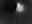person: (16, 3, 25, 15)
